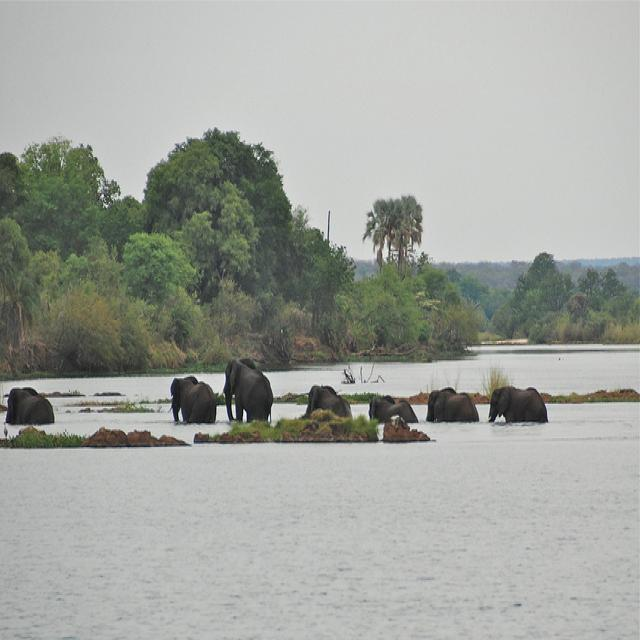Elephant: (222, 358, 273, 423), (488, 384, 548, 423), (169, 374, 216, 423), (425, 387, 479, 422), (5, 386, 54, 424), (303, 384, 352, 419), (368, 393, 418, 423)
